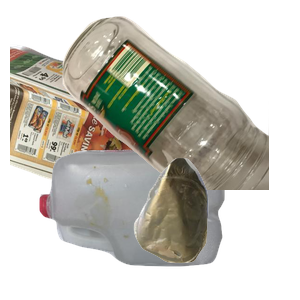glass: (60, 14, 300, 194)
paper: (10, 42, 224, 222)
plastic: (37, 147, 254, 300)
trash: (131, 155, 300, 300)
